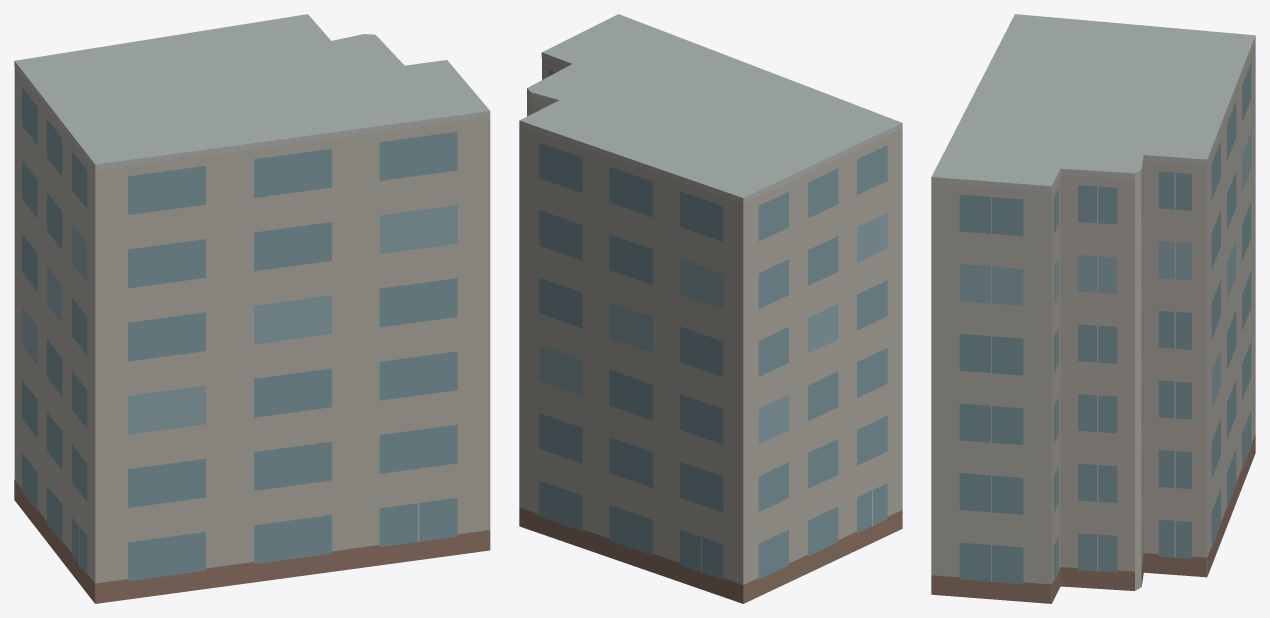
Rendered from survey-upis-32531615.glb.
The picture shows the model from 3 angles, left to right: view 1: azimuth 30°, elevation 25°; view 2: azimuth 150°, elevation 25°; view 3: azimuth 270°, elevation 25°; orthographic projection. The views are drawn at different scales.
Visible parts, largest first — view 1: survey-upis-32531615.tmp; view 2: survey-upis-32531615.tmp; view 3: survey-upis-32531615.tmp.
Boxes of the visible parts, x1,y1,x2,y2 form: survey-upis-32531615.tmp: (14, 14, 490, 603); survey-upis-32531615.tmp: (519, 14, 902, 603); survey-upis-32531615.tmp: (931, 14, 1255, 603).
Bounding box in the file's own units: 16.19 × 18.3 × 12.88.
